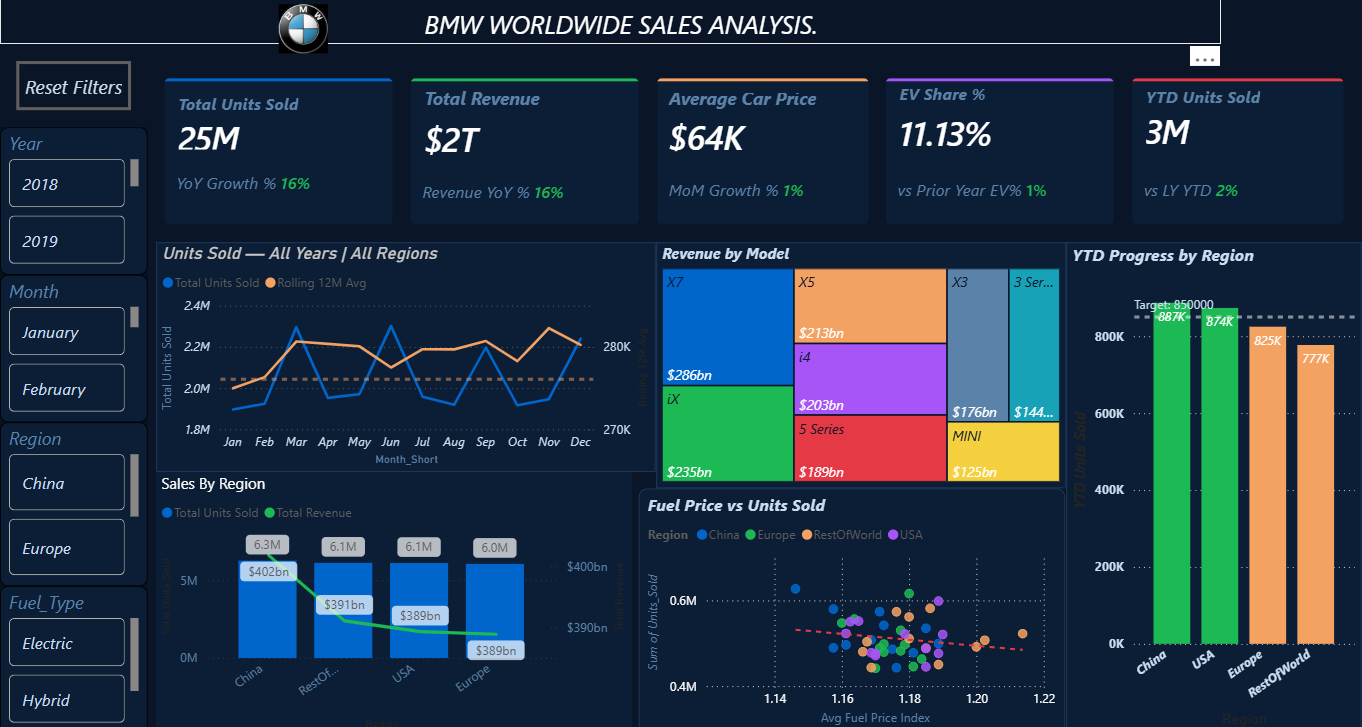

The page's visual inventory and layout, read from the dashboard file:
{"tool":"powerbi","page":{"name":"Executive Overview","canvas":[1335,721],"ordinal":0},"visuals":[{"type":"shape","box":[0,0,1280,64],"z":0},{"type":"textbox","box":[0,0,1192,48],"z":1000},{"type":"image","box":[272,0,48,64],"z":2000},{"type":"cardVisual","fields":{"Data":["_Measures.Total Units Sold"]},"box":[144,64,256,176],"z":3000},{"type":"cardVisual","fields":{"Data":["_Measures.Total Revenue"]},"box":[384,64,256,176],"z":4000},{"type":"cardVisual","fields":{"Data":["_Measures.Average Car Price"]},"box":[624,64,240,176],"z":5000},{"type":"cardVisual","fields":{"Data":["_Measures.EV Share %"]},"box":[848,64,256,176],"z":6000},{"type":"cardVisual","fields":{"Data":["_Measures.YTD Units Sold"]},"box":[1088,64,240,176],"z":7000},{"type":"shape","box":[0,128,144,592],"z":8000},{"type":"advancedSlicerVisual","fields":{"Values":["DateTable.Year"]},"box":[0,128,144,144],"z":9000},{"type":"advancedSlicerVisual","fields":{"Values":["bmw_global_sales_2018_2025.Region"]},"box":[0,416,144,160],"z":10000},{"type":"advancedSlicerVisual","title":"Month","fields":{"Values":["DateTable.Month_Name"]},"box":[0,272,144,144],"z":11000},{"type":"advancedSlicerVisual","fields":{"Values":["bmw_global_sales_2018_2025.Fuel_Type"]},"box":[0,576,144,144],"z":12000},{"type":"lineChart","fields":{"Y":["_Measures.Total Units Sold"],"Y2":["_Measures.Rolling 12M Avg"],"Category":["DateTable.Month_Short"]},"box":[152.5,240,487.5,223.8],"z":13000},{"type":"lineClusteredColumnComboChart","title":"Sales By Region","fields":{"Category":["bmw_global_sales_2018_2025.Region"],"Y":["_Measures.Total Units Sold"],"Y2":["_Measures.Total Revenue"]},"box":[152.5,465,463.8,256.2],"z":14000},{"type":"treemap","title":" Revenue by Model","fields":{"Values":["_Measures.Total Revenue"],"Group":["bmw_global_sales_2018_2025.Model"]},"box":[640,240,400,240],"z":15000},{"type":"scatterChart","title":" Fuel Price vs Units Sold ","fields":{"X":["_Measures.Avg Fuel Price Index"],"Y":["Sum(bmw_global_sales_2018_2025.Units_Sold)"],"Category":["DateTable.Month_Name"],"Series":["bmw_global_sales_2018_2025.Region"]},"box":[623.8,480,416.2,240],"z":16000},{"type":"columnChart","title":"YTD Progress by Region","fields":{"Category":["bmw_global_sales_2018_2025.Region"],"Y":["_Measures.YTD Units Sold"]},"box":[1040,240,288,480],"z":17000},{"type":"actionButton","title":"Reset Filters","box":[16,64,112,48],"z":17001}]}

Visuals, with their boxes in screenshot pixels (x1, y1, x2, y2), scaled from the page's 1335x721 canvas onto the 1362x727 screenshot:
shape: x1=0, y1=0, x2=1306, y2=65
textbox: x1=0, y1=0, x2=1216, y2=48
image: x1=278, y1=0, x2=326, y2=65
cardVisual - _Measures.Total Units Sold: x1=147, y1=65, x2=408, y2=242
cardVisual - _Measures.Total Revenue: x1=392, y1=65, x2=653, y2=242
cardVisual - _Measures.Average Car Price: x1=637, y1=65, x2=881, y2=242
cardVisual - _Measures.EV Share %: x1=865, y1=65, x2=1126, y2=242
cardVisual - _Measures.YTD Units Sold: x1=1110, y1=65, x2=1355, y2=242
shape: x1=0, y1=129, x2=147, y2=726
advancedSlicerVisual - DateTable.Year: x1=0, y1=129, x2=147, y2=274
advancedSlicerVisual - bmw_global_sales_2018_2025.Region: x1=0, y1=419, x2=147, y2=581
"Month" advancedSlicerVisual: x1=0, y1=274, x2=147, y2=419
advancedSlicerVisual - bmw_global_sales_2018_2025.Fuel_Type: x1=0, y1=581, x2=147, y2=726
lineChart - _Measures.Total Units Sold x _Measures.Rolling 12M Avg: x1=156, y1=242, x2=653, y2=468
"Sales By Region" lineClusteredColumnComboChart: x1=156, y1=469, x2=629, y2=726
" Revenue by Model" treemap: x1=653, y1=242, x2=1061, y2=484
" Fuel Price vs Units Sold " scatterChart: x1=636, y1=484, x2=1061, y2=726
"YTD Progress by Region" columnChart: x1=1061, y1=242, x2=1355, y2=726
"Reset Filters" actionButton: x1=16, y1=65, x2=131, y2=113
